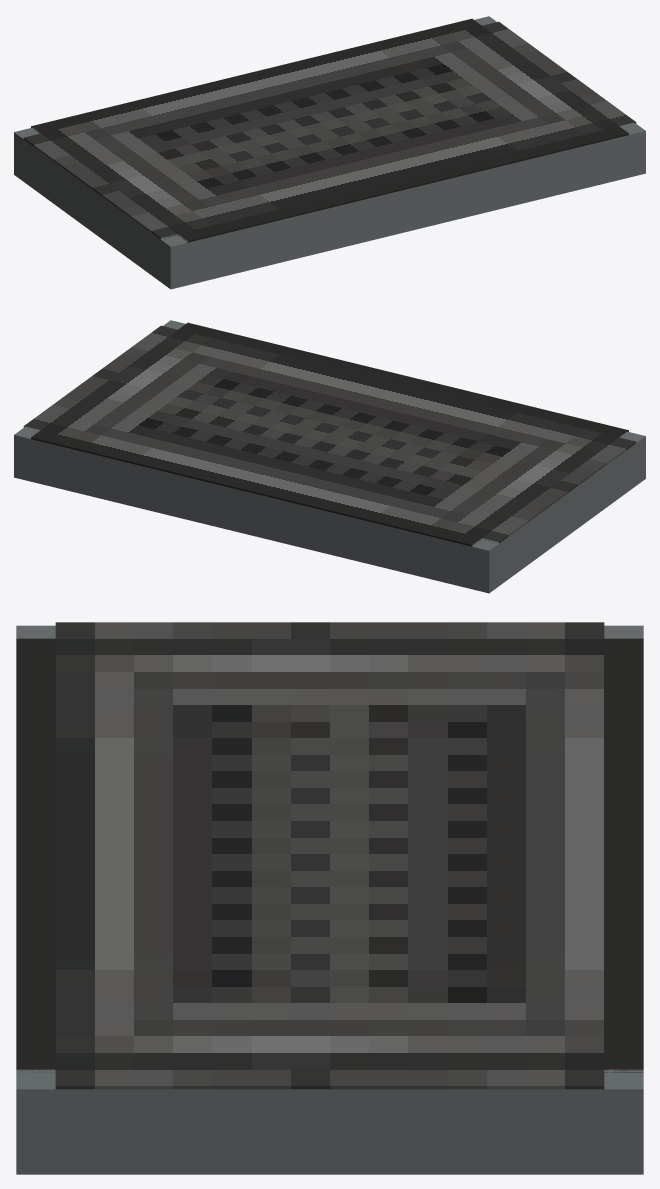
File: CMU3DReduxCMUZLevelHatchThroughDown.glb
3 renders of one model, top to bottom at view 1: azimuth 30°, elevation 25°; view 2: azimuth 150°, elevation 25°; view 3: azimuth 270°, elevation 25°, orthographic. The views are drawn at different scales.
Visible parts, largest first — view 1: source upper face, hatch cross frame (×2), hatch frame; view 2: source upper face, hatch cross frame, hatch frame; view 3: source upper face, hatch frame (×2), hatch cross frame (×2).
Boxes of the visible parts, box(x1,y1,x2,y2) form: source upper face: box(23, 18, 636, 242); hatch cross frame (×2): box(14, 17, 645, 288); hatch frame: box(14, 127, 192, 289); source upper face: box(23, 322, 636, 546); hatch cross frame: box(14, 426, 501, 592); hatch frame: box(467, 431, 645, 593); source upper face: box(16, 622, 643, 1089); hatch frame (×2): box(16, 625, 643, 1174); hatch cross frame (×2): box(16, 625, 643, 1174).
Size of the model in its own units: 0.875 by 0.078 by 0.5.
Materials: 3 (1 with a texture image).
